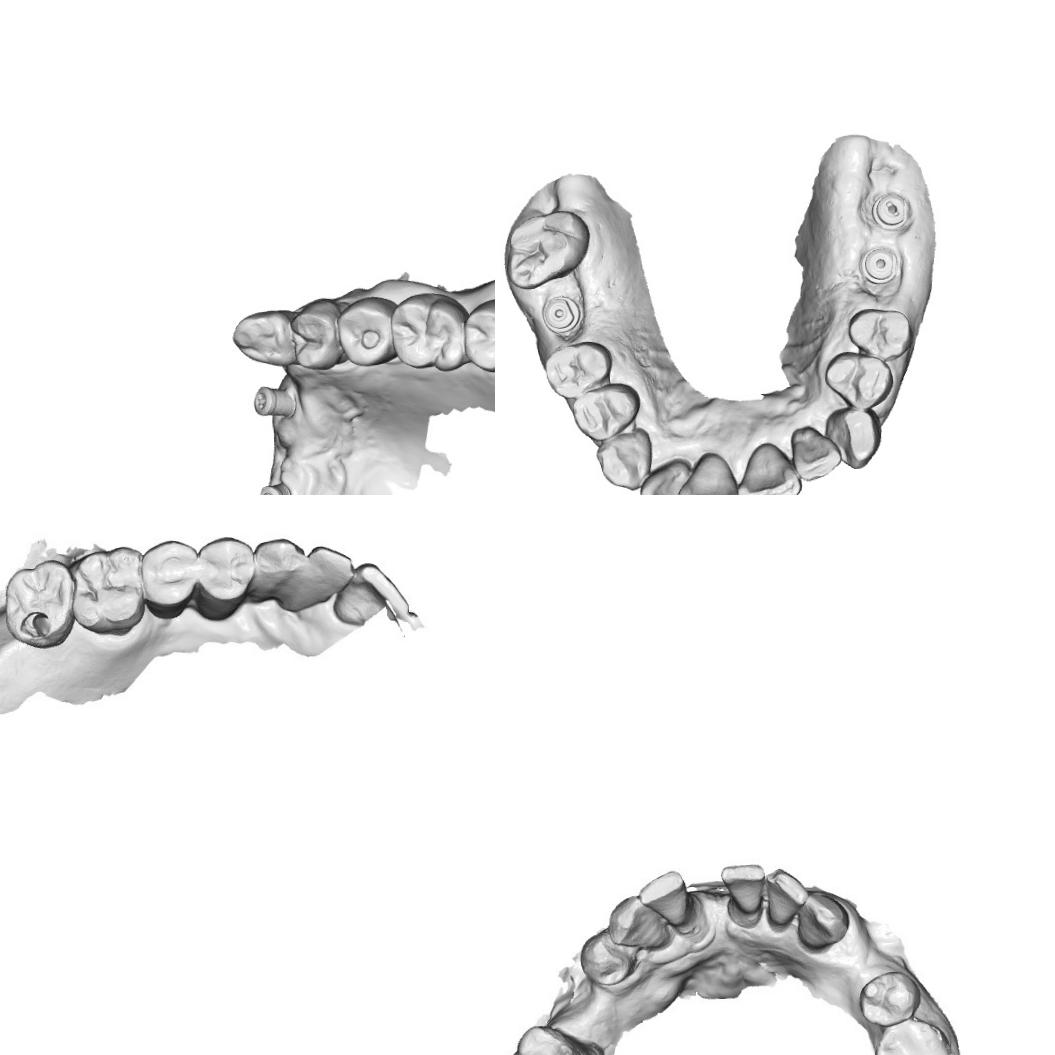canine: (606, 890, 679, 956), (246, 532, 304, 609), (824, 404, 885, 472), (794, 885, 851, 955), (230, 308, 296, 368), (595, 432, 654, 491)
implant: (856, 244, 902, 286), (539, 294, 583, 336)
implant_minus: (868, 190, 912, 230)
implant_plus: (250, 384, 298, 422), (255, 480, 293, 495)
incisor: (292, 541, 355, 618), (734, 442, 803, 495), (633, 868, 691, 931), (790, 424, 844, 482), (719, 856, 765, 924), (675, 450, 742, 495), (762, 866, 808, 929), (635, 460, 689, 495)
molar: (500, 208, 592, 290), (0, 557, 78, 651), (69, 543, 146, 638), (388, 290, 472, 374), (499, 1020, 594, 1055), (878, 1017, 950, 1055), (461, 295, 495, 374)
premolar: (192, 535, 254, 621), (138, 539, 200, 619), (334, 294, 399, 368), (823, 349, 894, 412), (542, 340, 615, 401), (571, 382, 642, 443), (289, 296, 345, 372), (856, 970, 922, 1028), (846, 305, 914, 361), (573, 926, 632, 988)
